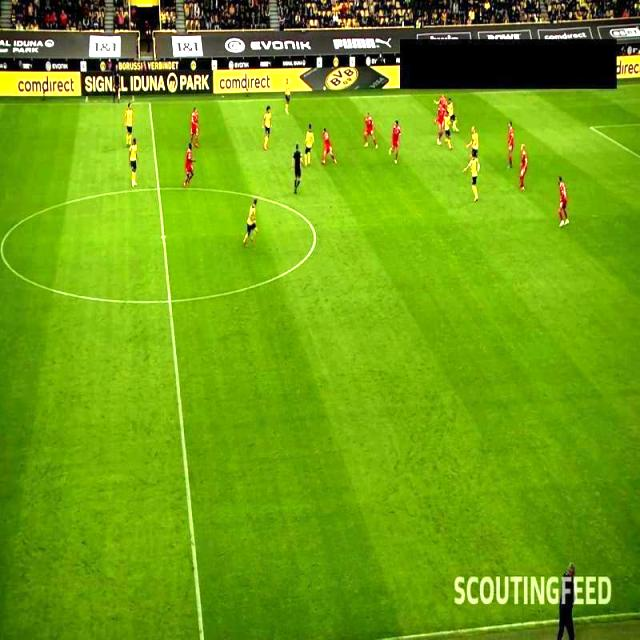bigarea_top_inner: (585, 121, 596, 132)
halfcircle_bottom: (164, 294, 177, 308)
halfcircle_top: (152, 182, 165, 195)
midline_top_intersection: (144, 97, 154, 108)
